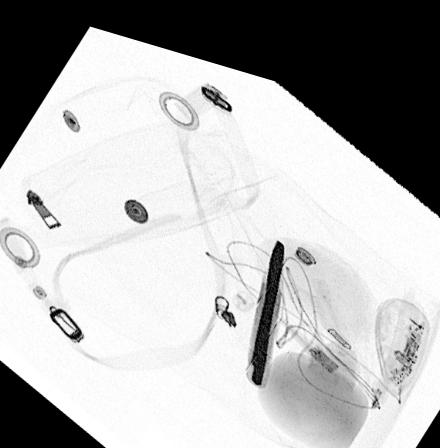Pliers: (246, 221, 286, 376)
